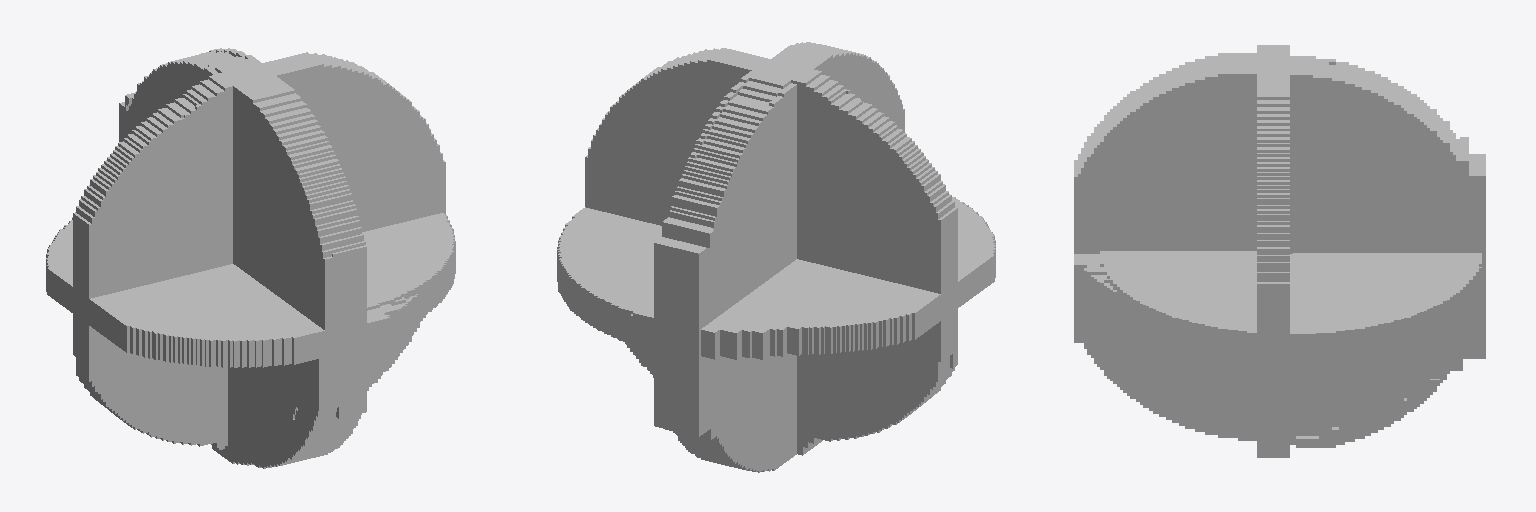
File: sun 2.obj
The picture shows the model from 3 angles: view 1: azimuth 30°, elevation 25°; view 2: azimuth 150°, elevation 25°; view 3: azimuth 270°, elevation 25°; orthographic projection.
Size of the model in its own units: 126 by 126 by 126.